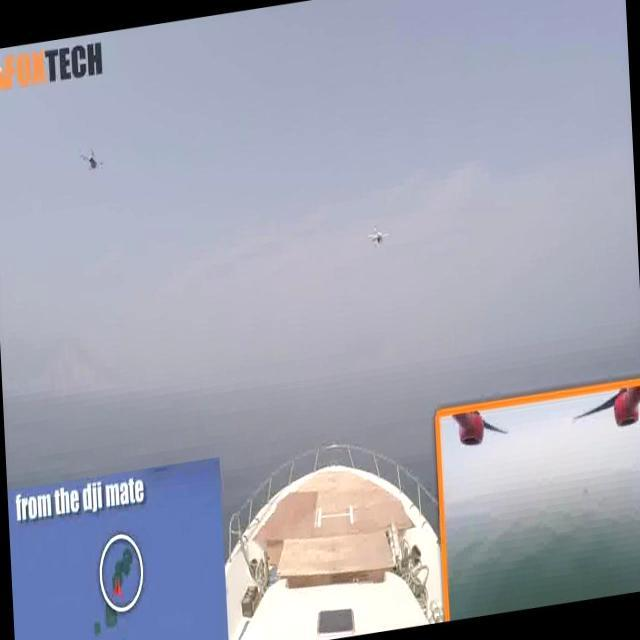drone: (364, 219, 390, 251), (81, 150, 105, 177)
